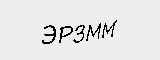З: (71, 22, 86, 46)
М: (100, 18, 118, 41), (84, 21, 100, 43)
Р: (56, 23, 73, 46)
Э: (39, 23, 57, 46)
